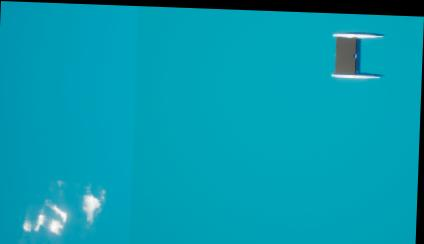boat: (330, 27, 385, 77)
drone: (335, 33, 355, 71)
land_base: (5, 167, 120, 244)
